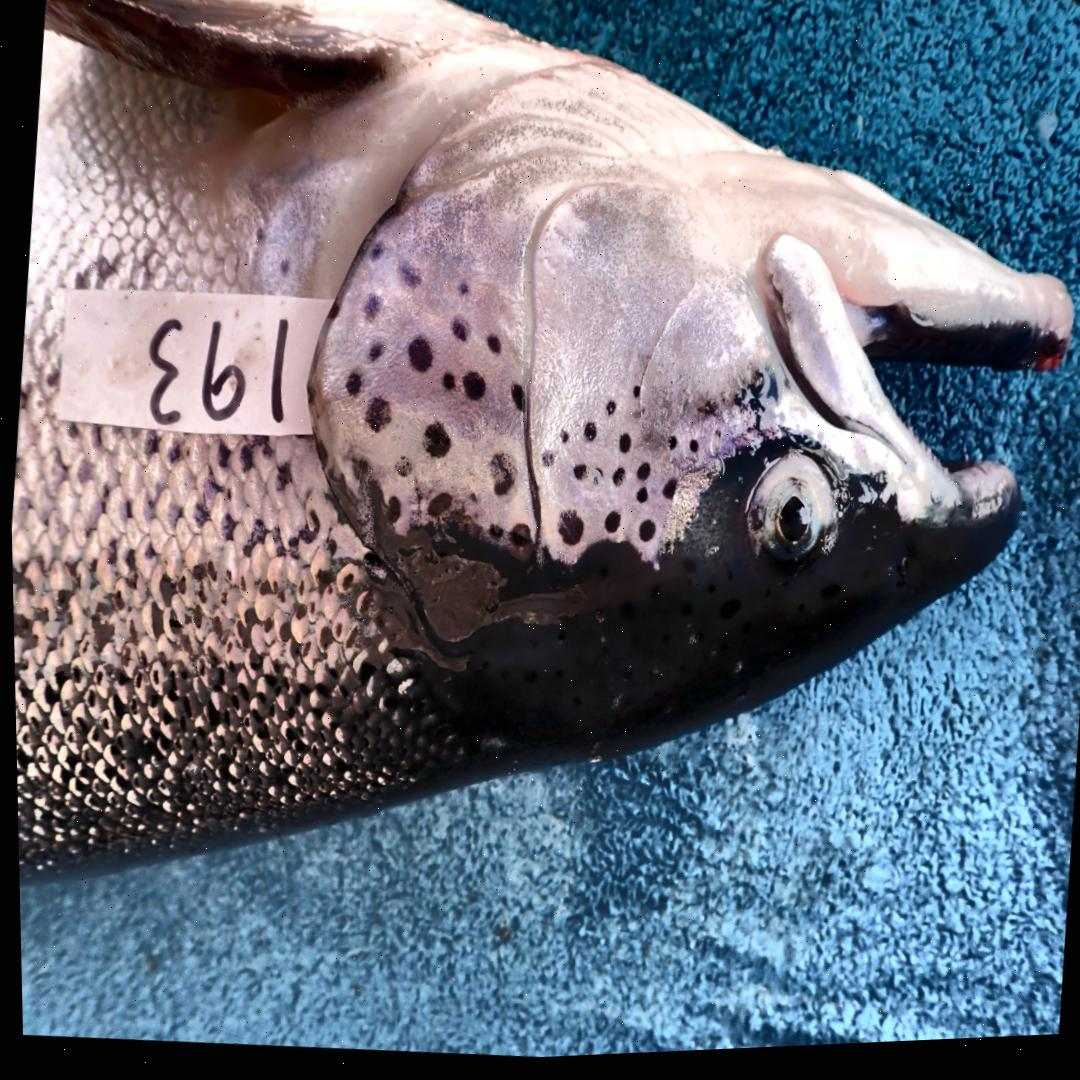spot: (486, 458, 512, 500), (419, 425, 448, 461), (554, 515, 579, 551), (363, 399, 388, 434), (405, 342, 430, 375), (395, 263, 420, 290), (461, 377, 483, 404), (425, 497, 450, 520), (505, 527, 528, 551), (362, 298, 378, 324), (449, 319, 465, 345), (344, 373, 360, 397), (601, 517, 617, 538), (636, 525, 652, 546), (508, 388, 520, 415), (393, 459, 410, 478), (385, 499, 397, 525), (483, 339, 499, 358), (485, 527, 501, 546), (368, 243, 383, 263), (609, 473, 623, 491), (659, 485, 673, 503), (365, 345, 379, 363), (438, 375, 452, 393), (581, 427, 594, 446), (616, 438, 627, 459), (539, 454, 553, 470), (634, 469, 647, 484), (570, 468, 583, 483), (700, 405, 712, 420), (453, 286, 467, 298), (590, 472, 600, 488), (686, 445, 696, 460), (665, 440, 674, 456), (557, 432, 566, 448), (634, 493, 644, 507), (603, 405, 612, 420), (630, 390, 640, 403)
